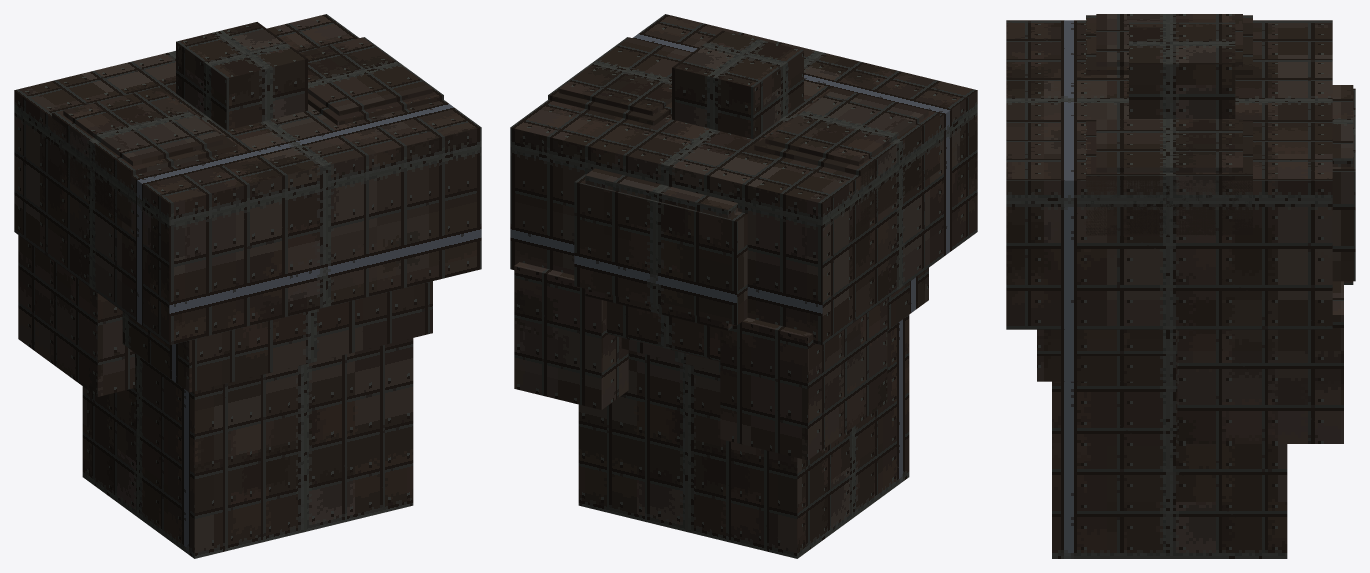
The model's file is enemy_role_brute.glb.
3 views of the same model, side by side, from view 1: azimuth 30°, elevation 25°; view 2: azimuth 150°, elevation 25°; view 3: azimuth 270°, elevation 25° (orthographic). The views are drawn at different scales.
Visible parts, largest first — view 1: enemy_role_brute; view 2: enemy_role_brute; view 3: enemy_role_brute.
Boxes of the visible parts, x1=… form: enemy_role_brute: x1=14, y1=14, x2=481, y2=558; enemy_role_brute: x1=510, y1=14, x2=977, y2=558; enemy_role_brute: x1=1006, y1=14, x2=1355, y2=558.
Size of the model in its own units: 1.8 by 2.41 by 1.66.
3 materials, 3 textured.
